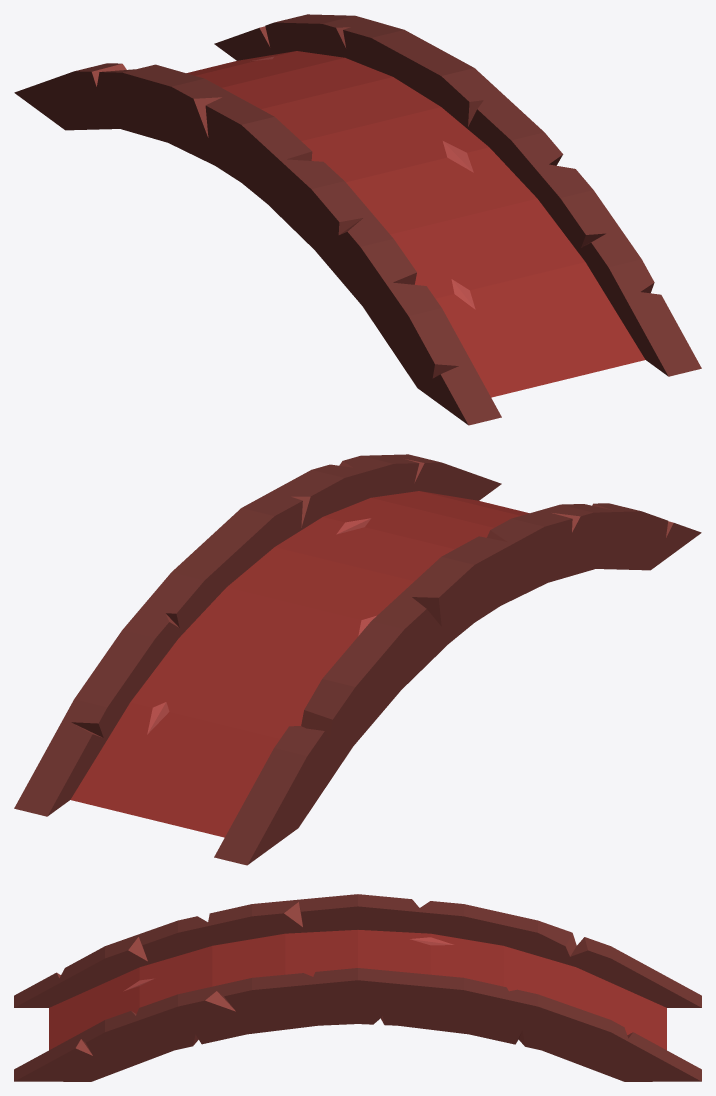
Rendered from Bridge_2_Red.fbx.
3 renders of one model, top to bottom at view 1: azimuth 30°, elevation 25°; view 2: azimuth 150°, elevation 25°; view 3: azimuth 270°, elevation 25°, orthographic. The views are drawn at different scales.
Visible parts, largest first — view 1: Bridge_2_Red_Part_1, Bridge_2_Red_Part_3, Bridge_2_Red_Part_2, Bridge_2_Red_Part_4, Bridge_2_Red_Part_5; view 2: Bridge_2_Red_Part_1, Bridge_2_Red_Part_3, Bridge_2_Red_Part_2, Bridge_2_Red_Part_4, Bridge_2_Red_Part_5; view 3: Bridge_2_Red_Part_2, Bridge_2_Red_Part_1, Bridge_2_Red_Part_3, Bridge_2_Red_Part_4, Bridge_2_Red_Part_5.
Part boxes in pixels (box(x1,y1,x2,y2)): Bridge_2_Red_Part_1: box(186, 51, 645, 397); Bridge_2_Red_Part_3: box(14, 63, 501, 425); Bridge_2_Red_Part_2: box(214, 14, 701, 376); Bridge_2_Red_Part_4: box(92, 26, 654, 378); Bridge_2_Red_Part_5: box(250, 56, 475, 309); Bridge_2_Red_Part_1: box(70, 491, 529, 837); Bridge_2_Red_Part_3: box(214, 503, 701, 865); Bridge_2_Red_Part_2: box(14, 454, 501, 816); Bridge_2_Red_Part_4: box(71, 459, 673, 738); Bridge_2_Red_Part_5: box(147, 518, 376, 734); Bridge_2_Red_Part_2: box(14, 968, 701, 1081); Bridge_2_Red_Part_1: box(49, 930, 666, 1049); Bridge_2_Red_Part_3: box(14, 894, 701, 1007); Bridge_2_Red_Part_4: box(57, 902, 632, 1055); Bridge_2_Red_Part_5: box(123, 937, 453, 991).
Size of the model in its own units: 700 by 385 by 2364.
